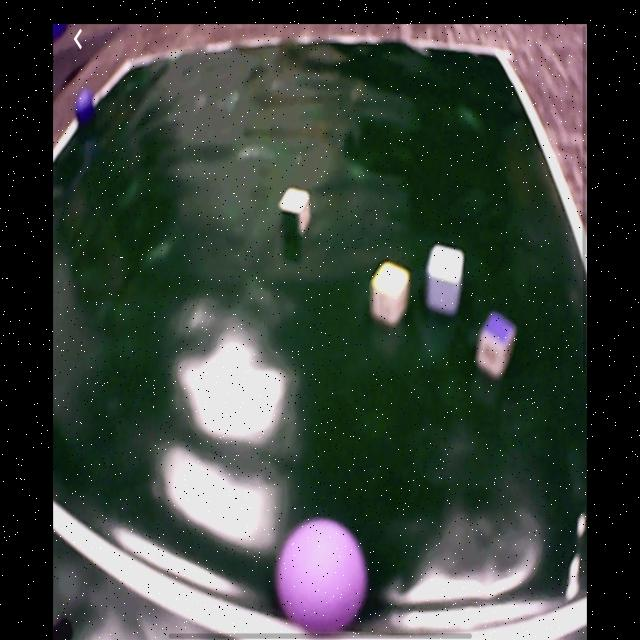ball: (277, 521, 369, 640), (74, 92, 95, 125)
